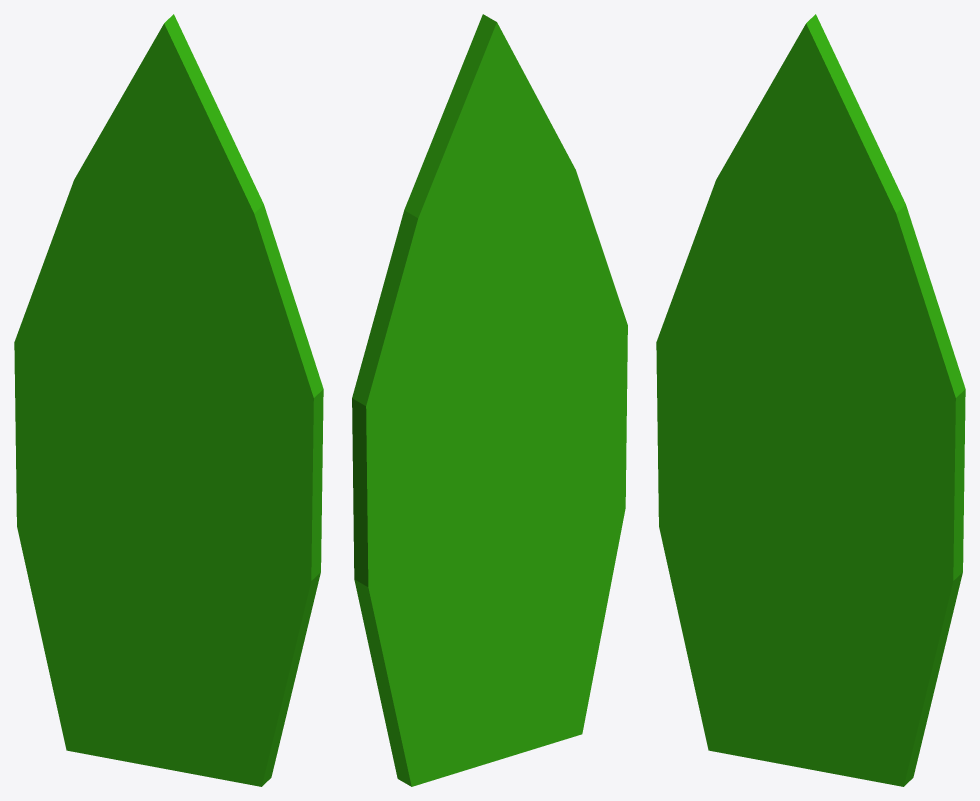
File: Rigged Grass Export 14.fbx
3 renders of one model, left to right at view 1: azimuth 90°, elevation 25°; view 2: azimuth 150°, elevation 25°; view 3: azimuth 270°, elevation 25°, orthographic.
Visible parts, largest first — view 1: Grass 4 Right Left 6; view 2: Grass 4 Right Left 6; view 3: Grass 4 Right Left 6.
Part boxes in pixels (x1,y1,x2,y2): Grass 4 Right Left 6: [14, 14, 323, 786]; Grass 4 Right Left 6: [352, 14, 627, 786]; Grass 4 Right Left 6: [656, 14, 965, 786].
Bounding box in the file's own units: 62.16 × 331 × 125.
